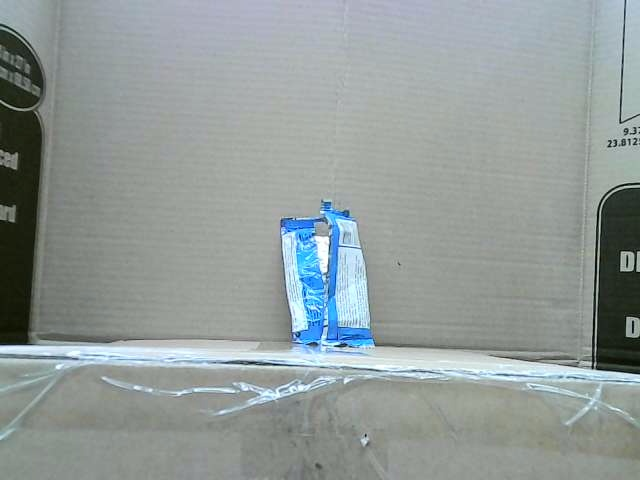CandyWrapper: (277, 205, 375, 347)
